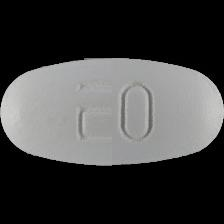49999-885: (0, 0, 224, 224)
